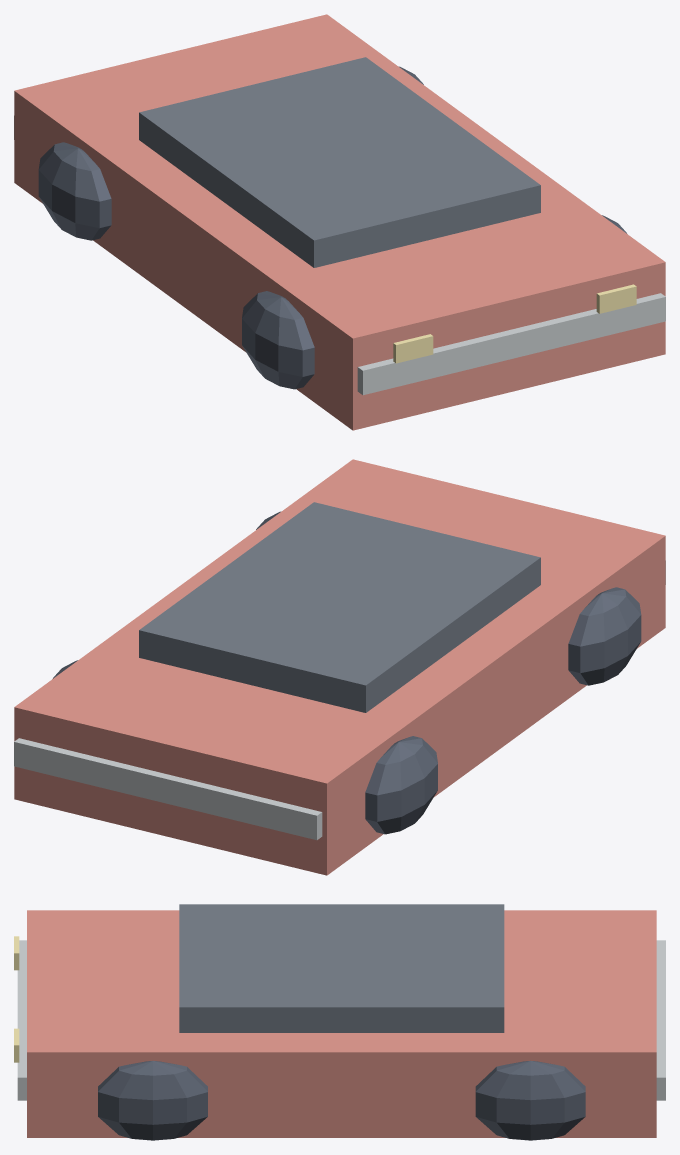
The model's file is auto_aplastado_rojo.glb.
The picture shows the model from 3 angles, top to bottom: view 1: azimuth 30°, elevation 25°; view 2: azimuth 150°, elevation 25°; view 3: azimuth 270°, elevation 25°; orthographic projection. The views are drawn at different scales.
Parts seen in each view (by area): view 1: auto_aplastado_rojo; view 2: auto_aplastado_rojo; view 3: auto_aplastado_rojo.
Boxes of the visible parts, left/top/right/bottom form: auto_aplastado_rojo: left=14, top=14, right=665, bottom=430; auto_aplastado_rojo: left=14, top=459, right=665, bottom=875; auto_aplastado_rojo: left=14, top=904, right=665, bottom=1140.
Bounding box in the file's own units: 1.91 × 0.59 × 3.11.
